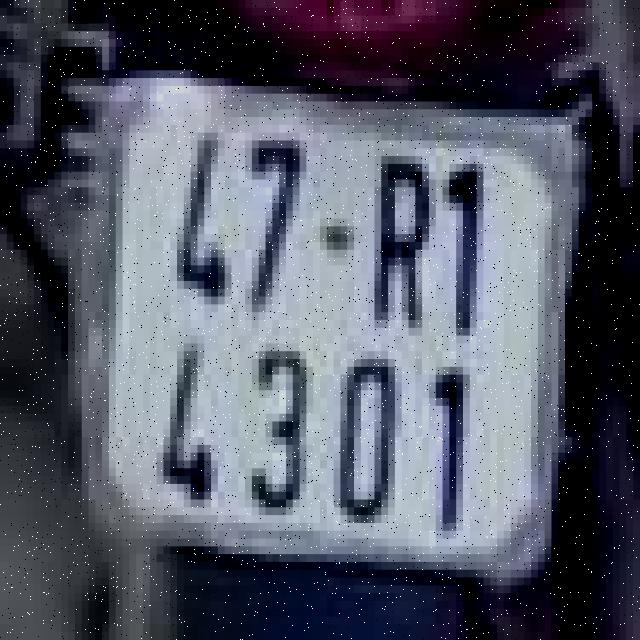0: (327, 355, 408, 527)
1: (416, 359, 484, 539), (439, 148, 494, 344)
3: (242, 344, 316, 515)
4: (146, 336, 222, 507), (164, 125, 232, 312)
7: (242, 125, 310, 328)
R: (368, 148, 442, 344)
